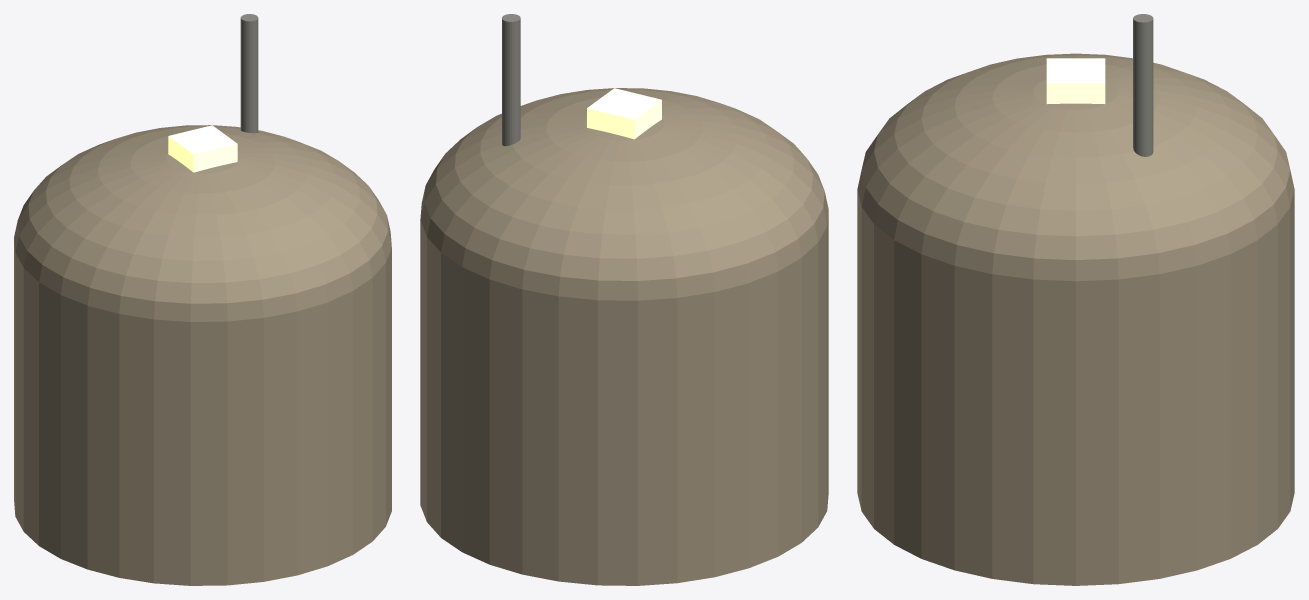
Rendered from shelter.glb.
The picture shows the model from 3 angles, left to right: view 1: azimuth 30°, elevation 25°; view 2: azimuth 150°, elevation 25°; view 3: azimuth 270°, elevation 25°; orthographic projection. The views are drawn at different scales.
Visible parts, largest first — view 1: Cylinder, Sphere, Cube, Cylinder.001; view 2: Cylinder, Sphere, Cube, Cylinder.001; view 3: Cylinder, Sphere, Cylinder.001, Cube.
Boxes of the visible parts, x1=… form: Cylinder: x1=14, y1=238, x2=391, y2=585; Sphere: x1=14, y1=125, x2=391, y2=321; Cube: x1=168, y1=125, x2=237, y2=172; Cylinder.001: x1=240, y1=14, x2=258, y2=133; Cylinder: x1=420, y1=210, x2=828, y2=585; Sphere: x1=420, y1=88, x2=828, y2=300; Cube: x1=587, y1=88, x2=661, y2=139; Cylinder.001: x1=502, y1=14, x2=520, y2=146; Cylinder: x1=857, y1=189, x2=1294, y2=585; Sphere: x1=857, y1=53, x2=1294, y2=281; Cylinder.001: x1=1133, y1=14, x2=1153, y2=156; Cube: x1=1046, y1=58, x2=1105, y2=103.
Bounding box in the file's own units: 2.6 × 3.4 × 2.6.
